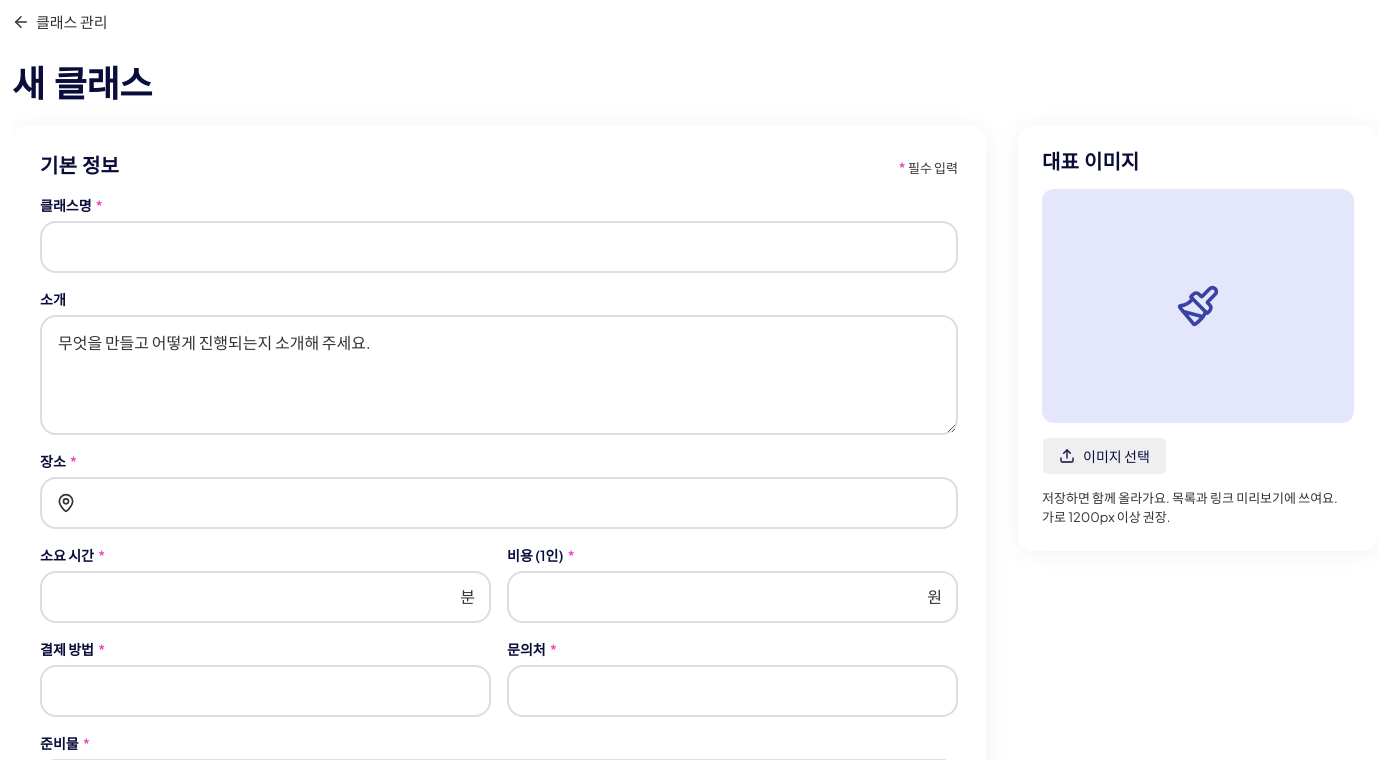
it: AdminClassForm 생성 › R-53: 소요 시간·비용 칸 안에 단위를 표시하고, 입력한 비용을 원화로 보여준다
This screenshot has width=1378, height=760.
Type "55000" into the field labelled "비용 (1인)".
click(732, 597); type("55000")  # box [507, 571, 958, 623]
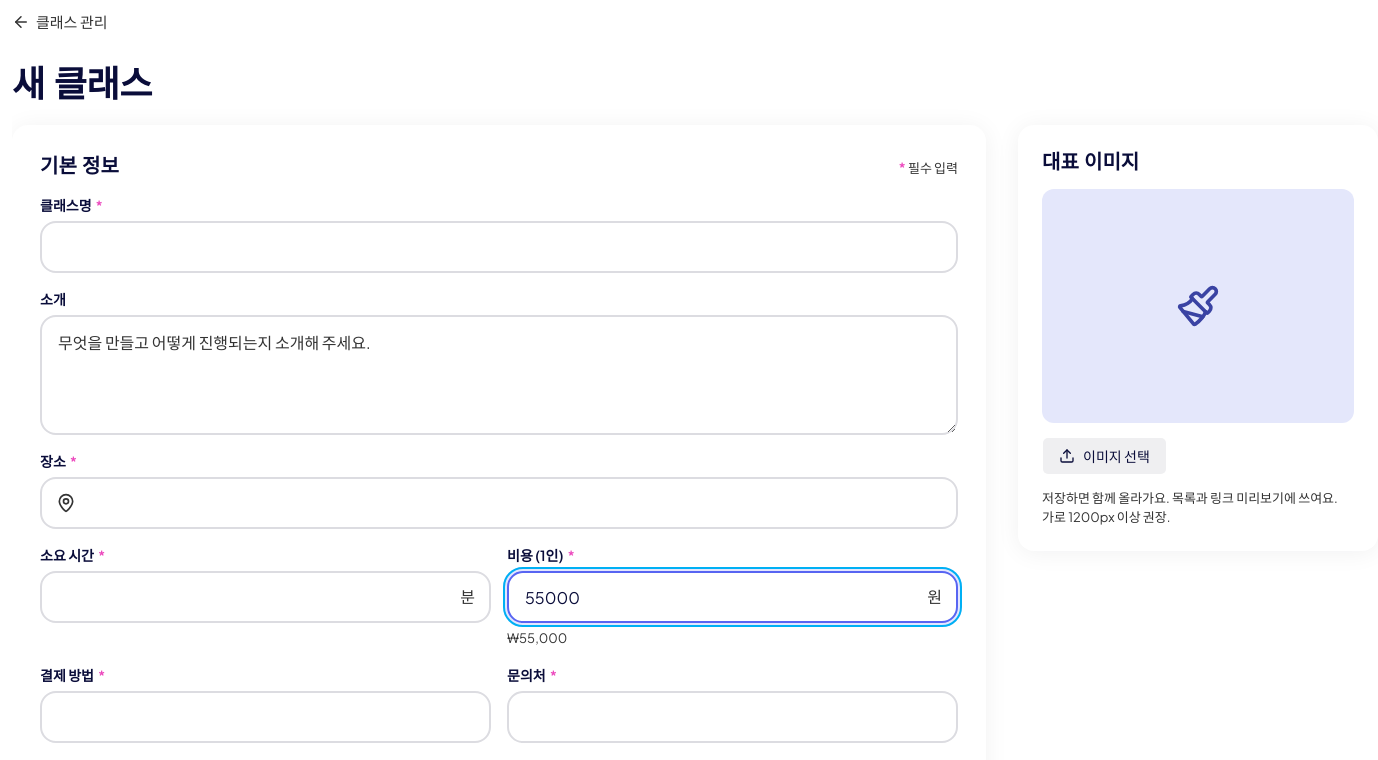
Result: the text "₩55,000" is shown at [507, 630, 567, 646]
Replace the text in the field labelled "비용 (1인)" with "0" at (732, 597), box [507, 571, 958, 623]
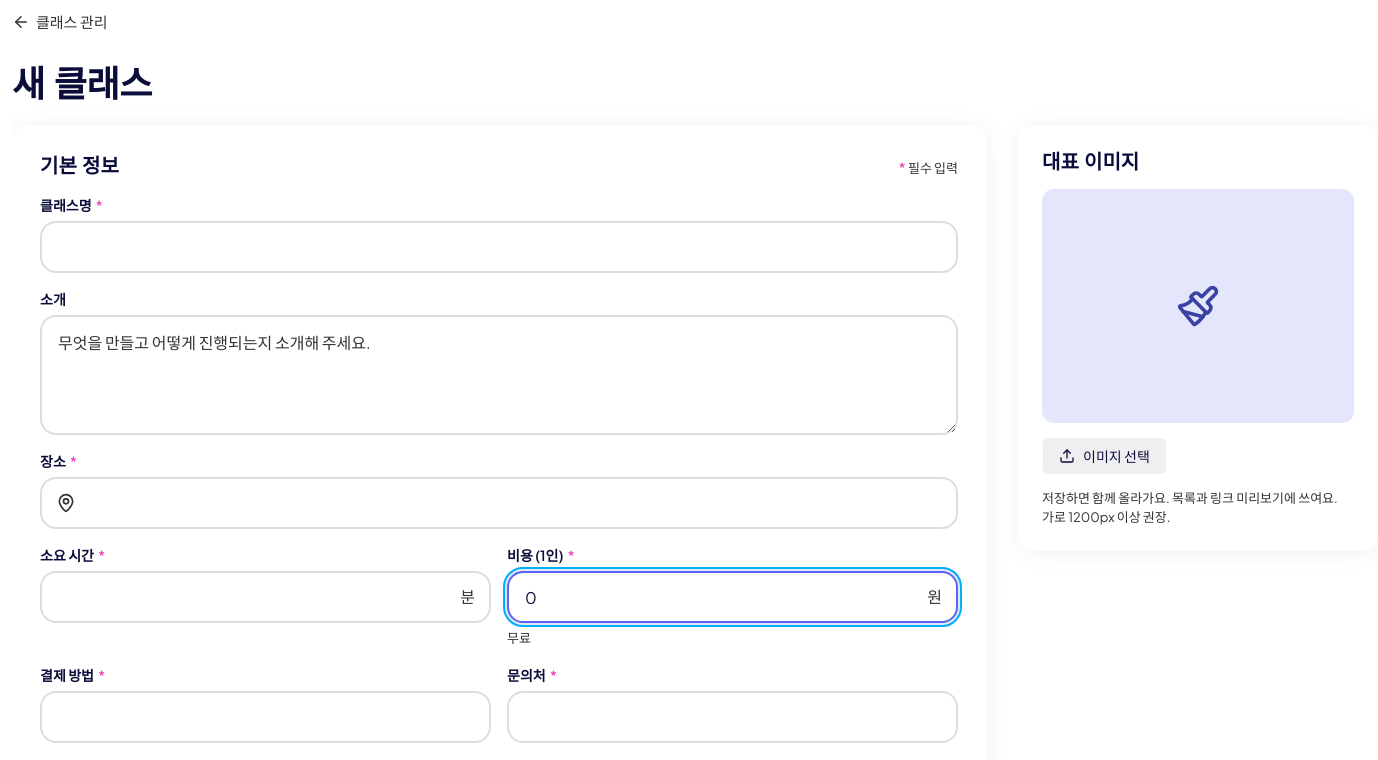
Result: the text "무료" is shown at [507, 630, 531, 646]
